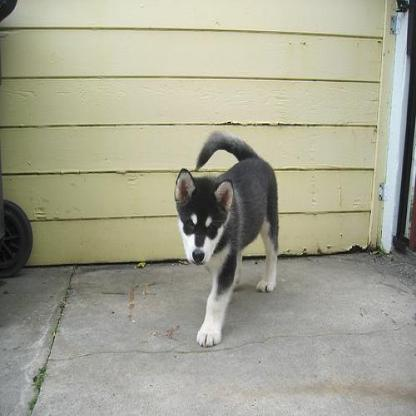malamute: (173, 127, 280, 346)
